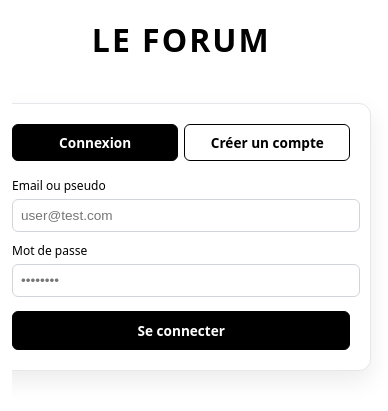
Test: AuthPage - tests front sans backend › si le login échoue (fetch renvoie pas ok), on affiche le message d'erreur
The image size is (388, 411).
In the field labelled "Email ou pseudo": coordinates (186, 216) top-left (12, 199), bottom-right (360, 232), type "wrong@test.com"
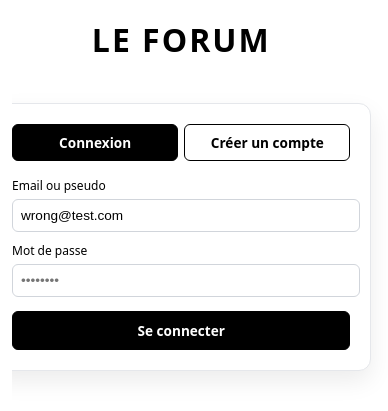
In the password field labelled "Mot de passe": coordinates (186, 280) top-left (12, 264), bottom-right (360, 297), type "badpass"
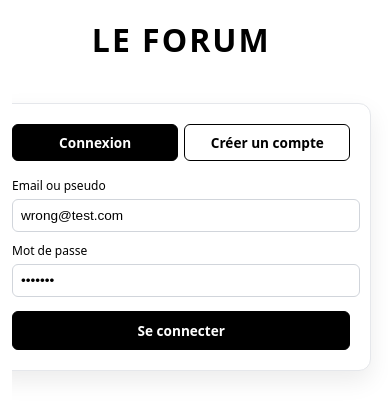
Submit the form, box top-left (12, 177), bottom-right (350, 350)
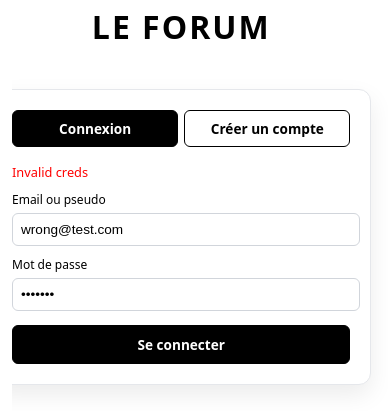
Result: the text "Invalid creds" is shown at top-left (12, 163), bottom-right (88, 181)
